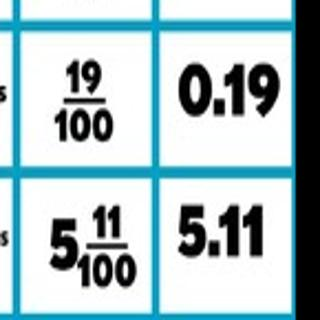.: (206, 238, 223, 262), (213, 97, 226, 121)
0: (175, 60, 213, 120), (111, 250, 141, 290), (90, 107, 117, 144), (69, 107, 92, 143), (90, 254, 112, 290)
1: (240, 201, 269, 260), (222, 59, 246, 118), (219, 202, 242, 261), (61, 56, 80, 96), (51, 106, 69, 145), (90, 204, 108, 239), (76, 253, 92, 290), (108, 203, 123, 239)
5: (173, 203, 209, 261), (46, 215, 79, 271)
9: (244, 59, 281, 120), (80, 57, 103, 96)
